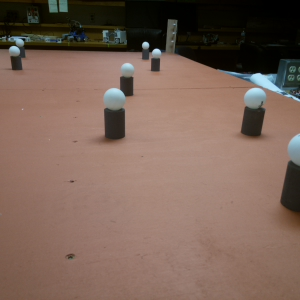obstacle: (280, 131, 300, 215), (240, 88, 268, 138), (102, 88, 127, 140), (118, 62, 135, 97), (7, 45, 23, 70), (138, 38, 149, 62), (16, 38, 27, 56)
